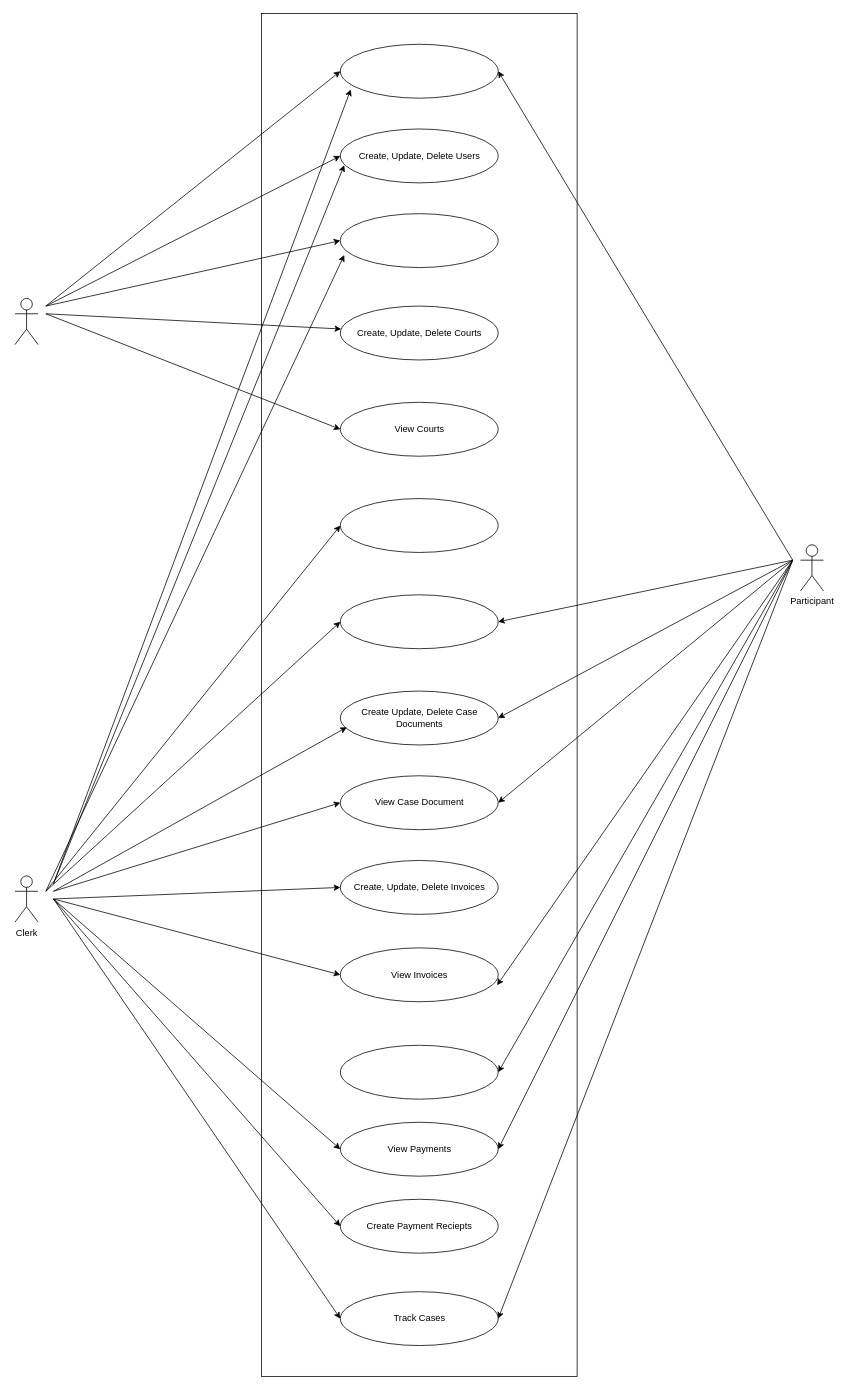
The diagram is 847 pixels wide and 1390 high, and some of its shapes have lost their labels. Here are the shapes that lost their labels. From the top down, the centre of each, then its label:
the point at 419,71: Create Account
the point at 419,240: View Users
the point at 26,321: Admin
the point at 419,525: Create, Update, Delete Cases
the point at 419,621: View Cases
the point at 419,1072: Make Payments
